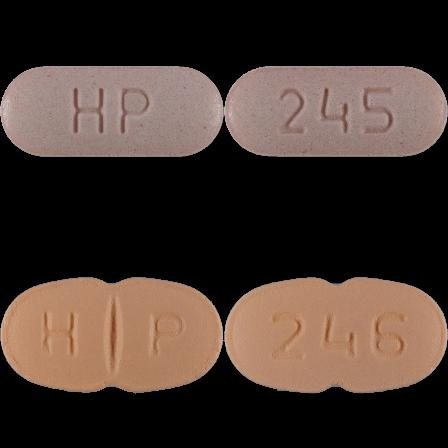23155-245: (0, 0, 224, 224)
